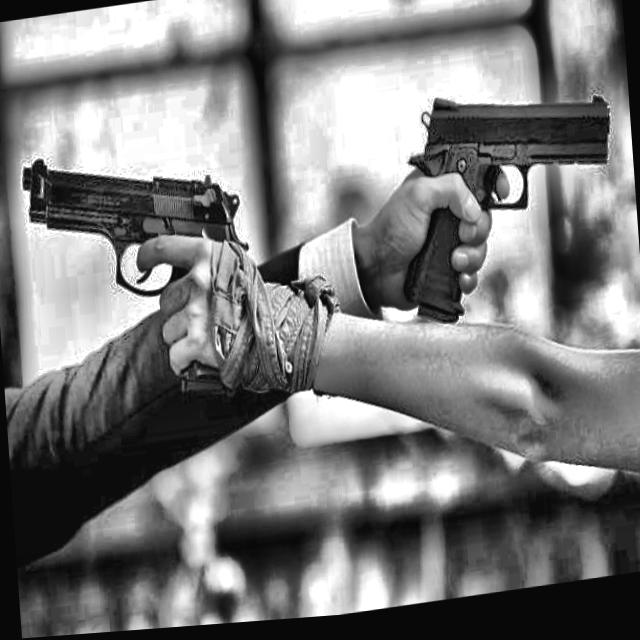pistol: (382, 63, 626, 337)
